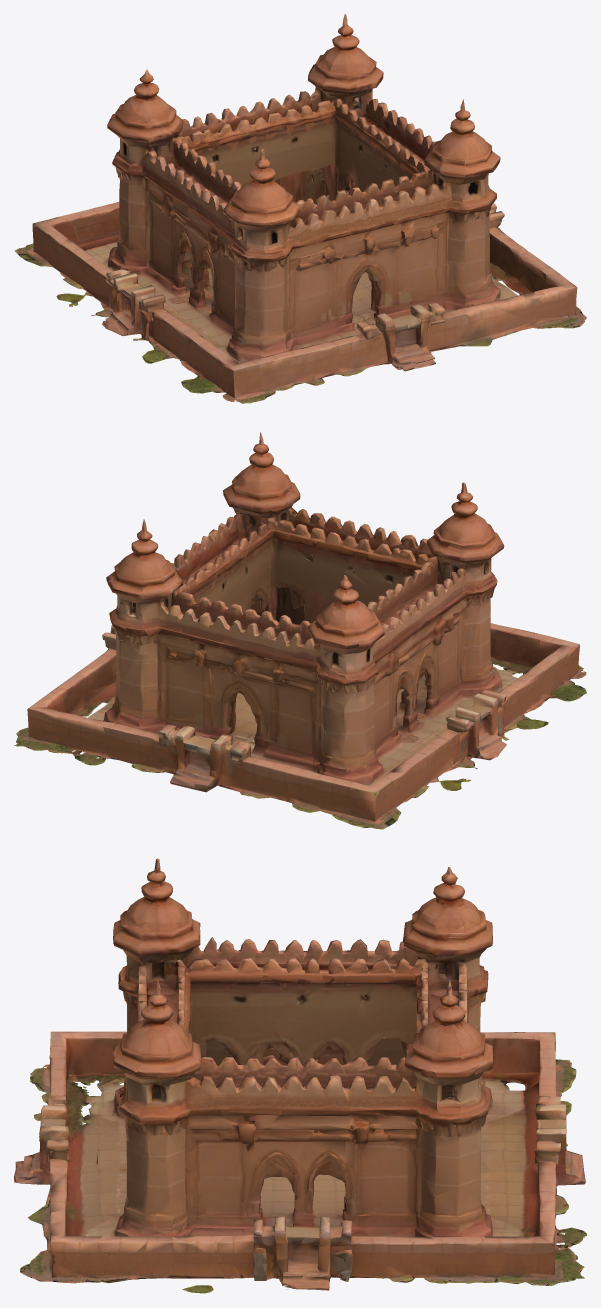
Rendered from town_center__desert-palace_persian.glb.
3 views of the same model, one above another, from view 1: azimuth 30°, elevation 25°; view 2: azimuth 150°, elevation 25°; view 3: azimuth 270°, elevation 25° (orthographic). The views are drawn at different scales.
Size of the model in its own units: 1.99 by 0.9707 by 1.98.
1 material, 1 textured.
